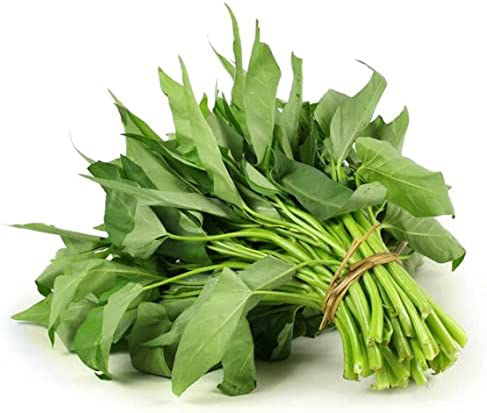Kangkung: (55, 28, 467, 401)
